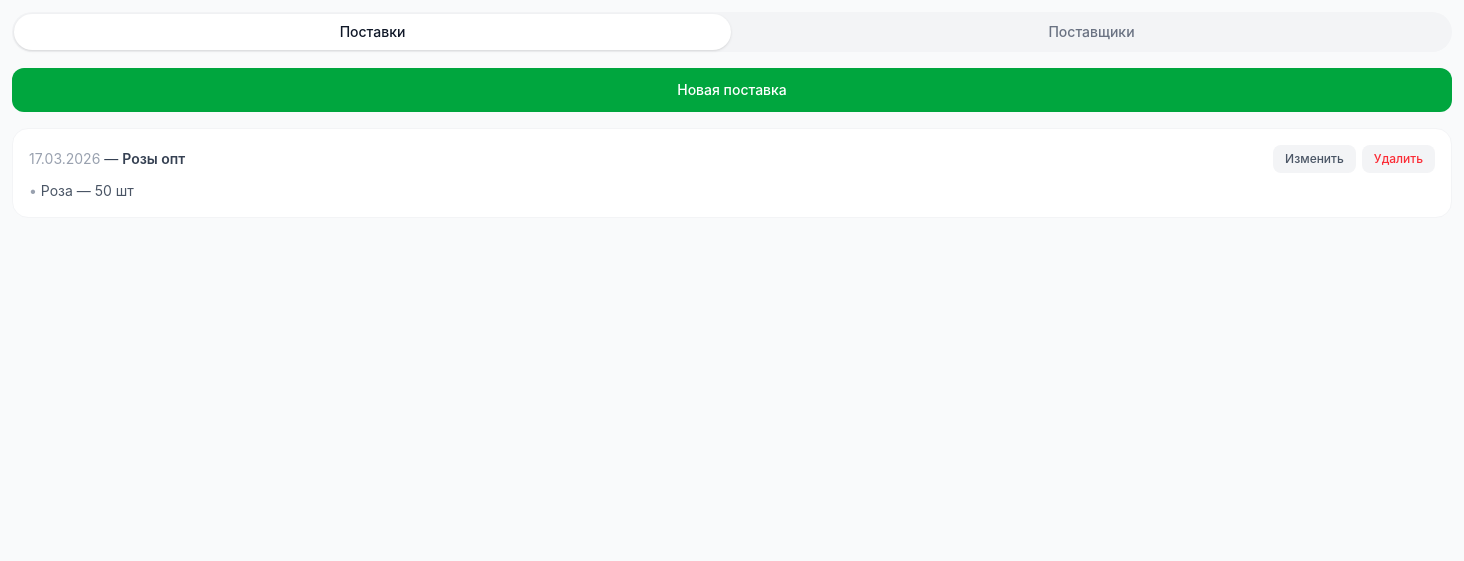
Scenario: DeliveryPage › показывает форму после нажатия Новая поставка
This screenshot has width=1464, height=561.
What coordinates should you click on to do the following:
click the button "Новая поставка"
I would click on:
 (732, 90)
Its box is [12,68,1452,112].
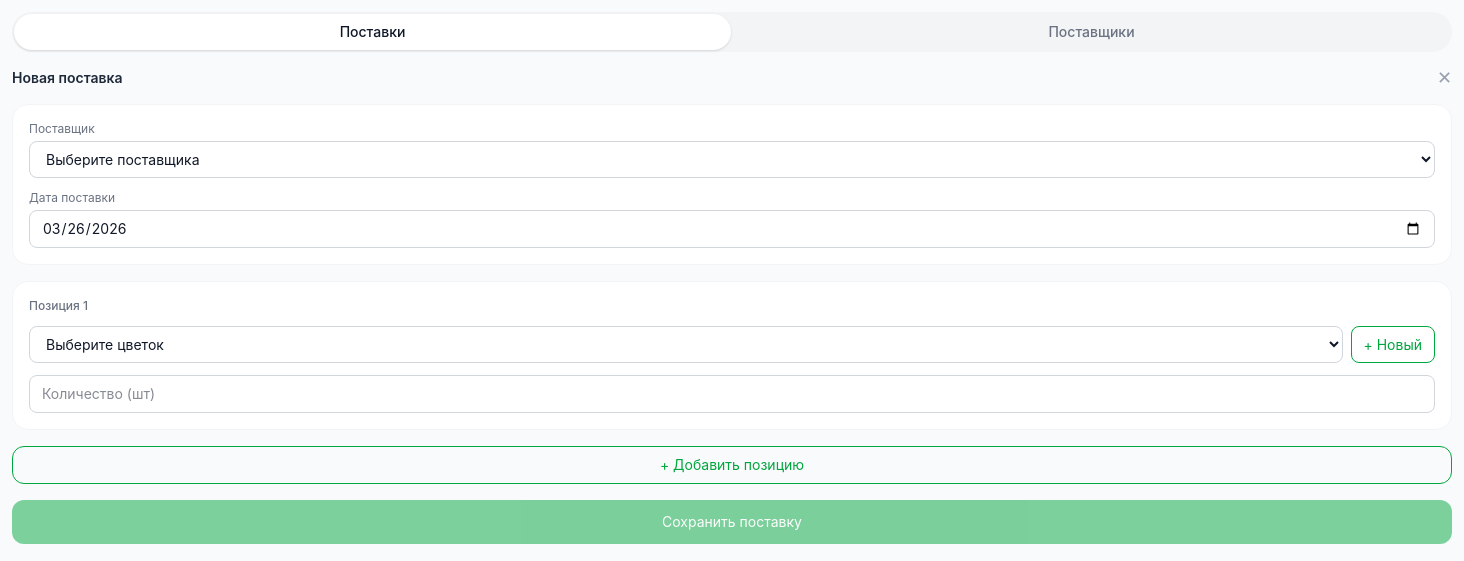
Expected: the button "Поставщики" is shown, [733,14,1450,50]
Result: the text "Дата поставки" is shown at [29,190,115,205]
